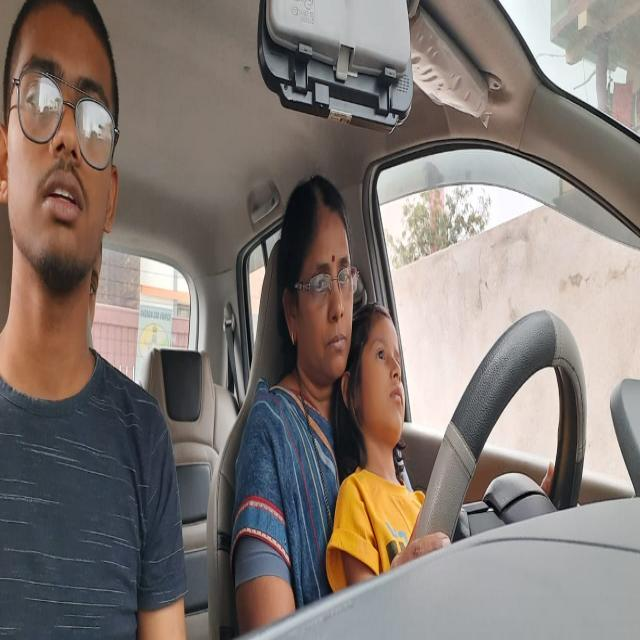child: (354, 304, 415, 462)
person: (0, 2, 121, 300), (275, 179, 363, 380)
